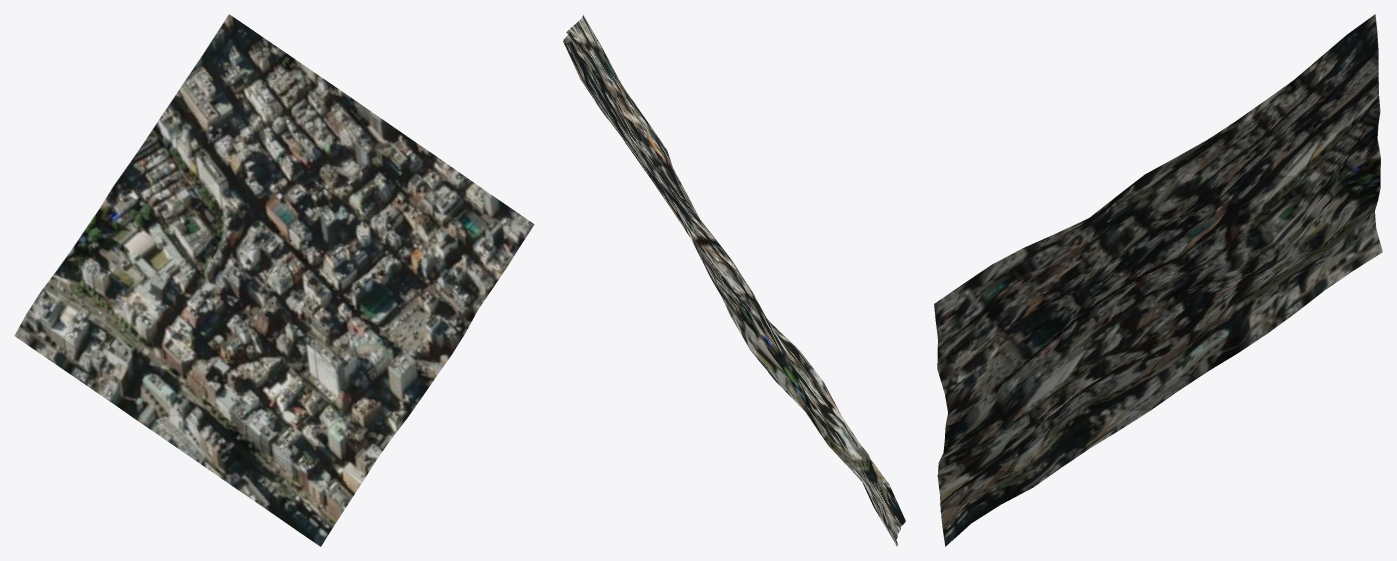
3 views of the same model, side by side, from view 1: azimuth 30°, elevation 25°; view 2: azimuth 150°, elevation 25°; view 3: azimuth 270°, elevation 25° (orthographic). The views are drawn at different scales.
Size of the model in its own units: 536 by 576 by 408.
Materials: 1 (1 with a texture image).
